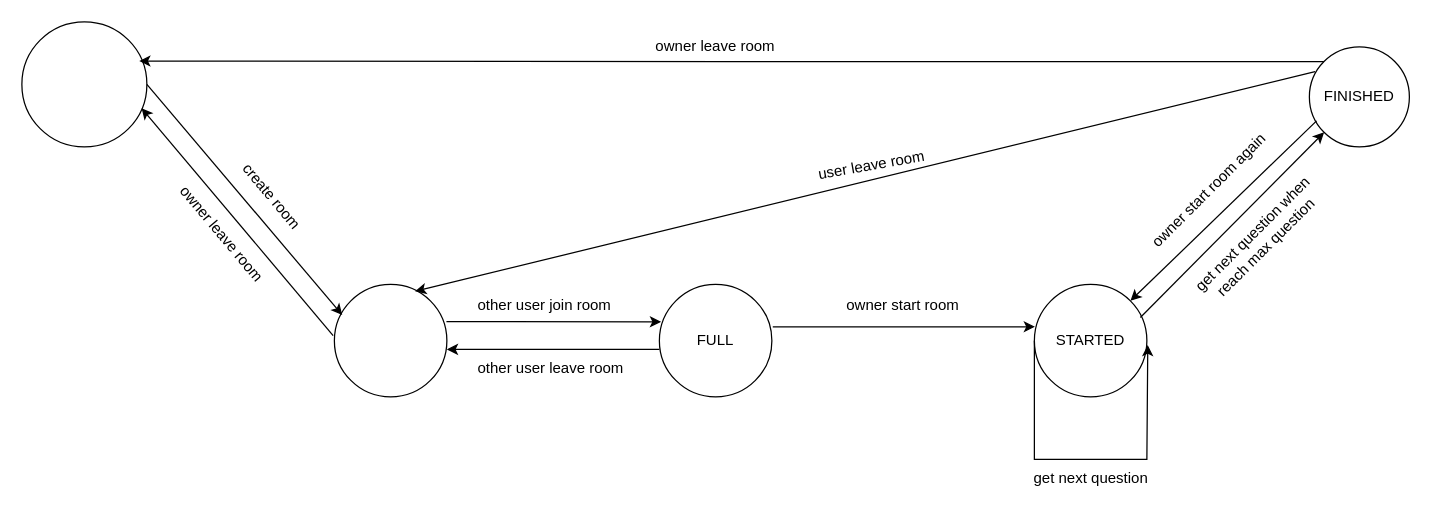
Some shapes in this 1431 by 519 pixel diagram are drawn without their labels. Each missing label, with the centre of its shape:
"Initial" belongs at point (84, 84).
"Pending" belongs at point (390, 340).
